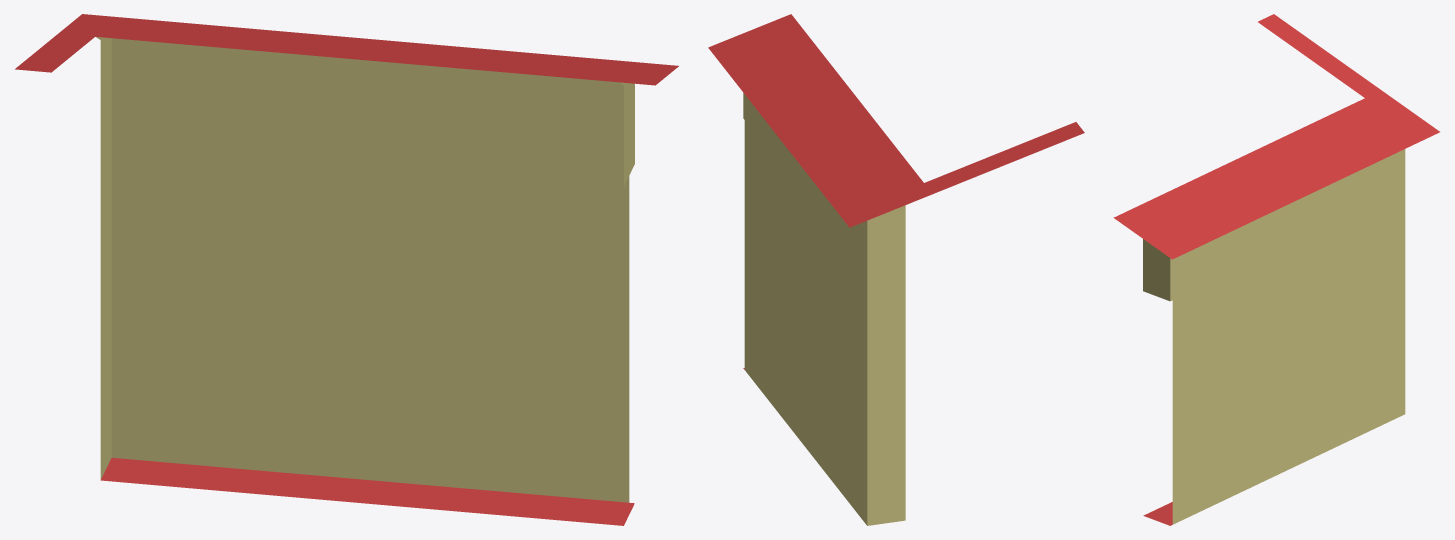
3 renders of one model, left to right at view 1: azimuth 30°, elevation 25°; view 2: azimuth 150°, elevation 25°; view 3: azimuth 270°, elevation 25°, orthographic. The views are drawn at different scales.
Size of the model in its own units: 13.49 by 9.81 by 11.15.
